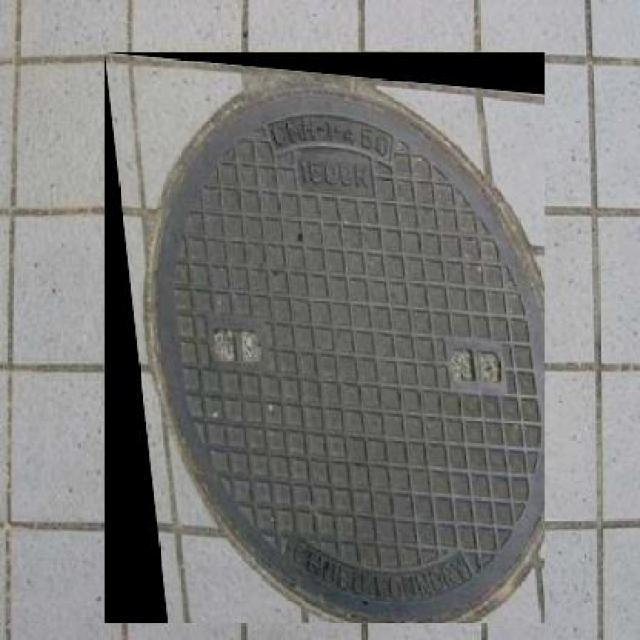Manhole: (104, 52, 546, 623)
